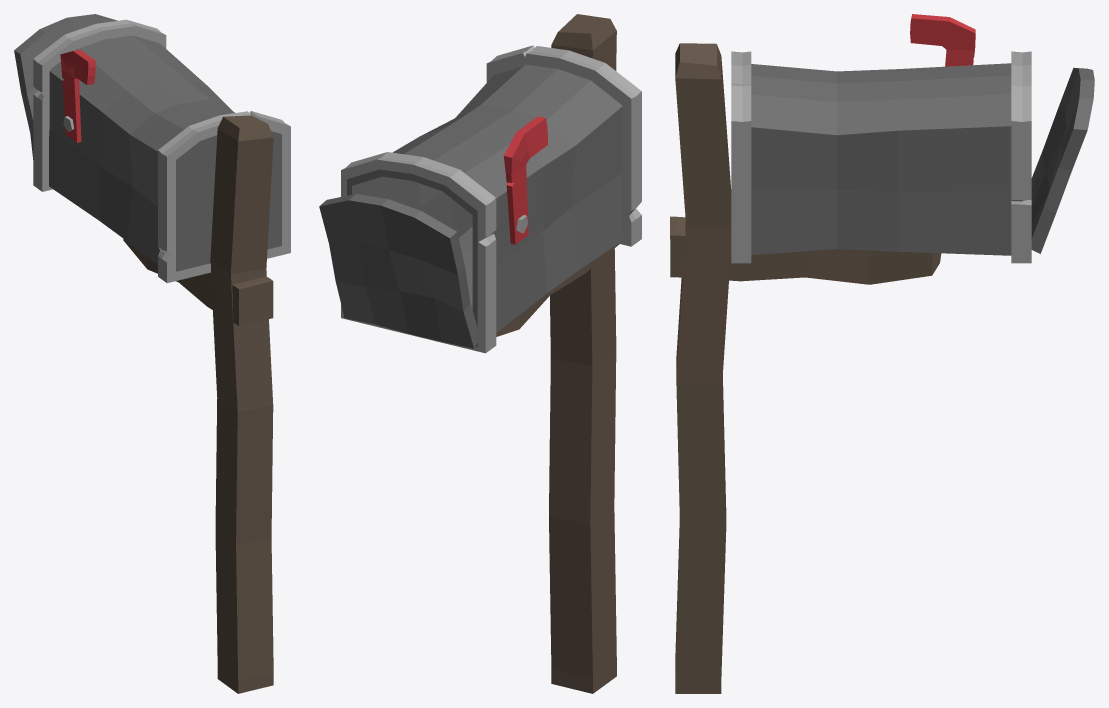
File: mailbox.fbx
The picture shows the model from 3 angles, left to right: view 1: azimuth 30°, elevation 25°; view 2: azimuth 150°, elevation 25°; view 3: azimuth 270°, elevation 25°; orthographic projection. The views are drawn at different scales.
Parts seen in each view (by area): view 1: Cube.3857; view 2: Cube.3857; view 3: Cube.3857.
Part boxes in pixels (left/top/right/bottom): Cube.3857: left=14, top=14, right=290, bottom=693; Cube.3857: left=319, top=14, right=641, bottom=693; Cube.3857: left=670, top=14, right=1094, bottom=693.
Bounding box in the file's own units: 29.54 × 129 × 78.03.
